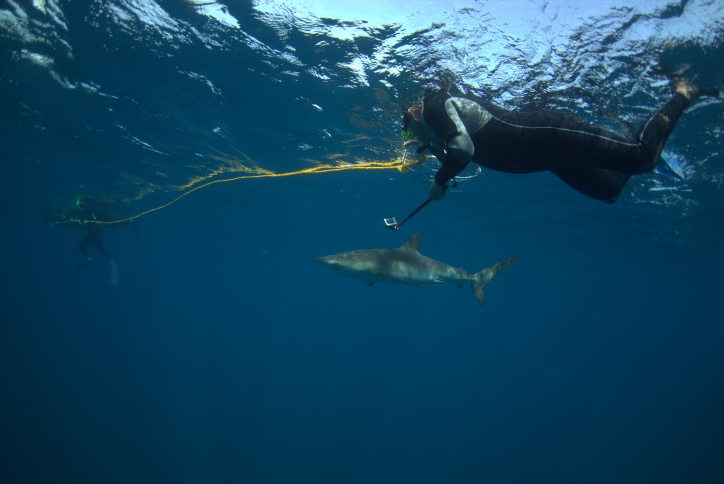Sedoso: (292, 227, 532, 308)
